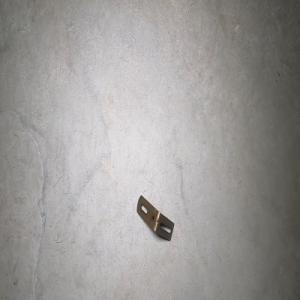MetalPart: (136, 194, 174, 242)
